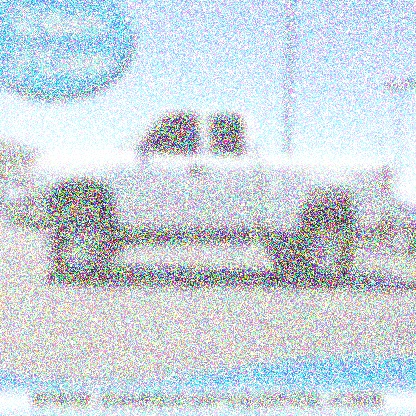Vehicle: (7, 111, 395, 287)
